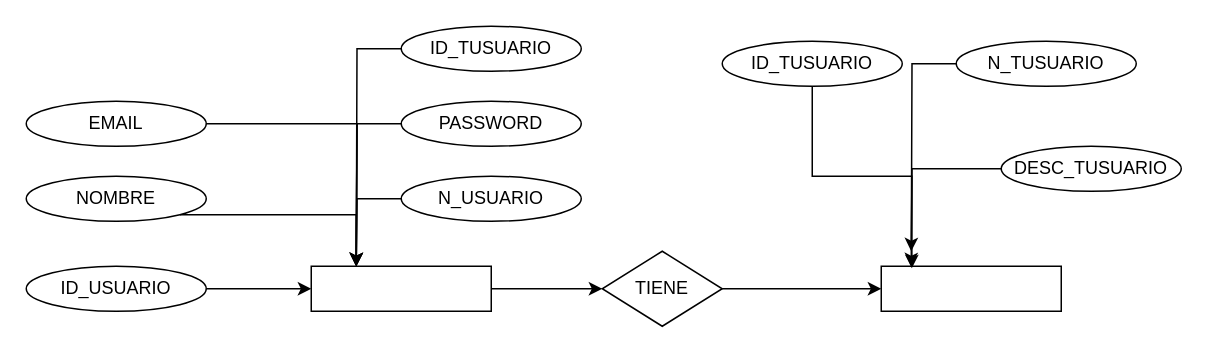
Image size: 1208x353. Some labels were removed from this diagram. Each missing label, with the centre of its shape:
"T_USUARIO" belongs at (970,288).
"USUARIO" belongs at (400,288).
